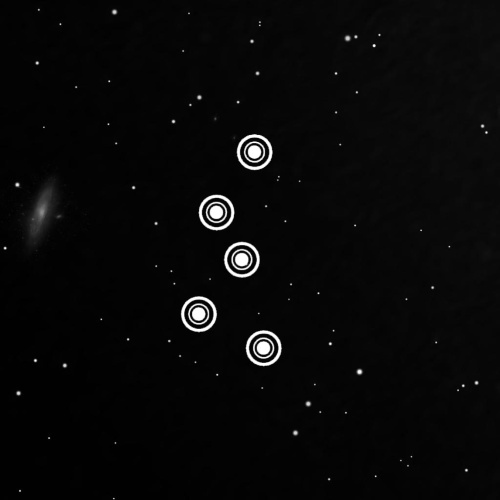cassiopeia: (165, 121, 293, 377)
